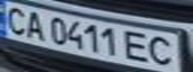0: (45, 15, 69, 46)
1: (96, 25, 121, 57), (81, 21, 103, 53)
4: (63, 19, 84, 51)
A: (21, 9, 48, 40)
C: (145, 34, 181, 69), (0, 3, 30, 36)
E: (121, 29, 154, 63)
